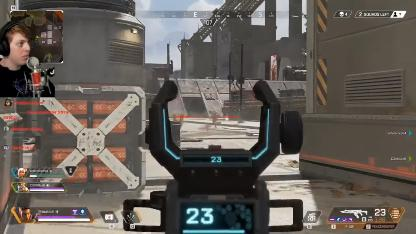Target: (208, 107, 220, 127)
